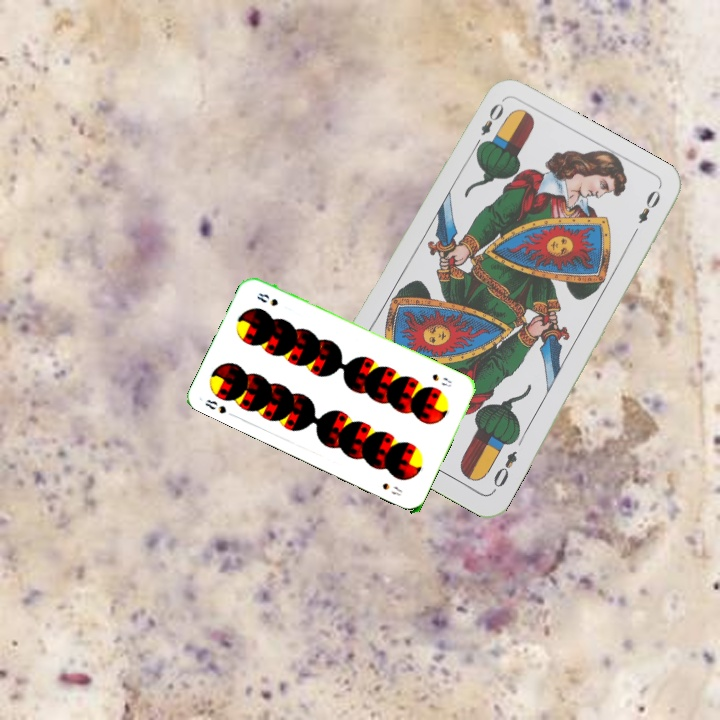EO: (469, 98, 507, 153), (489, 446, 520, 495)
S8: (201, 395, 229, 416), (428, 370, 454, 390)
